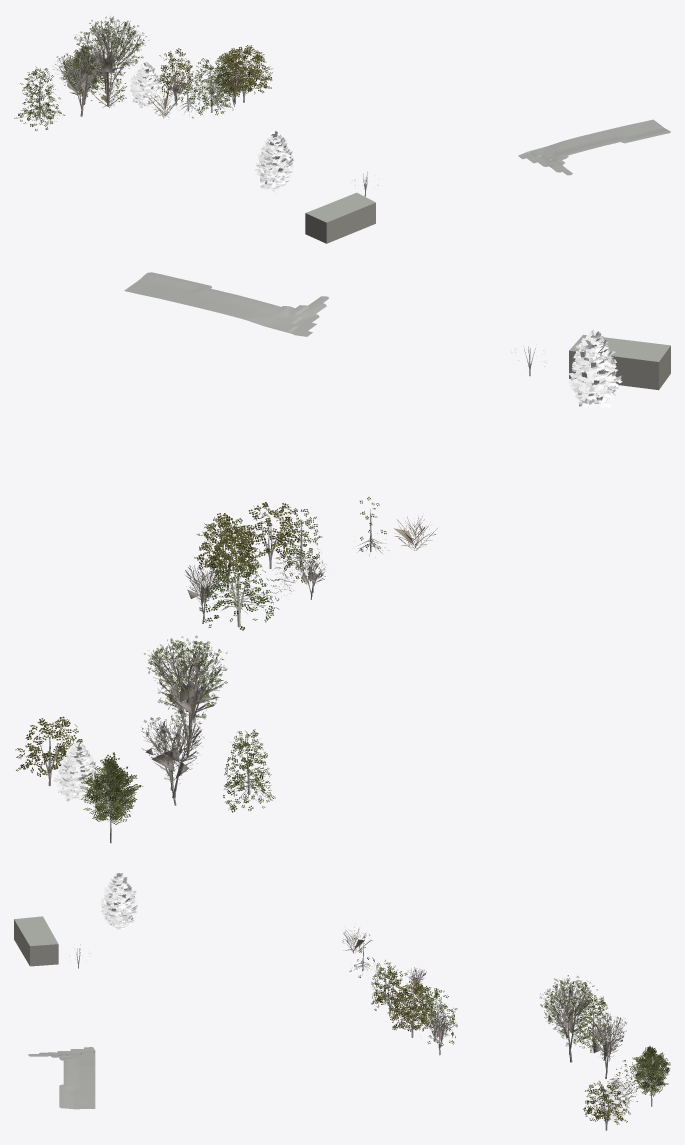
3 views of the same model, one above another, from view 1: azimuth 30°, elevation 25°; view 2: azimuth 150°, elevation 25°; view 3: azimuth 270°, elevation 25° (orthographic). The views are drawn at different scales.
Parts seen in each view (by area): view 1: NT_PinOak_0151, NT_RedMaple_0341, NT_PinOak_0331, MH LiDAR edge apron north of Annex (feather; UNVERIFIED), NT_PinOak_0307, bldg 232853526, NT_LondonPlane_0336, bldg 232853526 roof, NT_LondonPlane_0309, NT_PinOak_0313; view 2: NT_PinOak_0151, NT_RedMaple_0341, NT_PinOak_0331, MH LiDAR edge apron north of Annex (feather; UNVERIFIED), NT_PinOak_0307, NT_LondonPlane_0309, NT_LondonPlane_0336, bldg 232853526, bldg 232853526 roof; view 3: NT_PinOak_0151, NT_RedMaple_0341, NT_PinOak_0331, MH LiDAR edge apron north of Annex (feather; UNVERIFIED), NT_PinOak_0307, NT_LondonPlane_0309, bldg 232853526, bldg 232853526 roof, NT_LondonPlane_0336, NT_PinOak_0313.
Boxes of the visible parts, box(x1,y1,x2,y2) form: NT_PinOak_0151: box(53, 16, 246, 116); NT_RedMaple_0341: box(157, 45, 378, 196); NT_PinOak_0331: box(130, 62, 293, 192); MH LiDAR edge apron north of Annex (feather; UNVERIFIED): box(518, 119, 670, 175); NT_PinOak_0307: box(14, 60, 235, 130); bldg 232853526: box(305, 202, 375, 243); NT_LondonPlane_0336: box(185, 55, 234, 115); bldg 232853526 roof: box(306, 192, 375, 222); NT_LondonPlane_0309: box(61, 44, 102, 100); NT_PinOak_0313: box(91, 75, 179, 118); NT_PinOak_0151: box(141, 558, 325, 805); NT_RedMaple_0341: box(15, 346, 545, 786); NT_PinOak_0331: box(53, 330, 622, 801); MH LiDAR edge apron north of Annex (feather; UNVERIFIED): box(124, 272, 328, 336); NT_PinOak_0307: box(223, 497, 389, 812); NT_LondonPlane_0309: box(81, 754, 143, 843); NT_LondonPlane_0336: box(199, 550, 279, 630); bldg 232853526: box(569, 346, 670, 390); bldg 232853526 roof: box(569, 334, 670, 361); NT_PinOak_0151: box(407, 967, 626, 1078); NT_RedMaple_0341: box(74, 944, 630, 1130); NT_PinOak_0331: box(100, 872, 630, 1121); MH LiDAR edge apron north of Annex (feather; UNVERIFIED): box(28, 1047, 95, 1109); NT_PinOak_0307: box(349, 933, 611, 1052); NT_LondonPlane_0309: box(630, 1046, 670, 1106); bldg 232853526: box(14, 919, 58, 966); bldg 232853526 roof: box(14, 916, 58, 945); NT_LondonPlane_0336: box(413, 987, 457, 1045); NT_PinOak_0313: box(342, 923, 642, 1101).
Bounding box in the file's own units: 94.41 × 47.53 × 146.
Materials: 17 (6 with a texture image).
